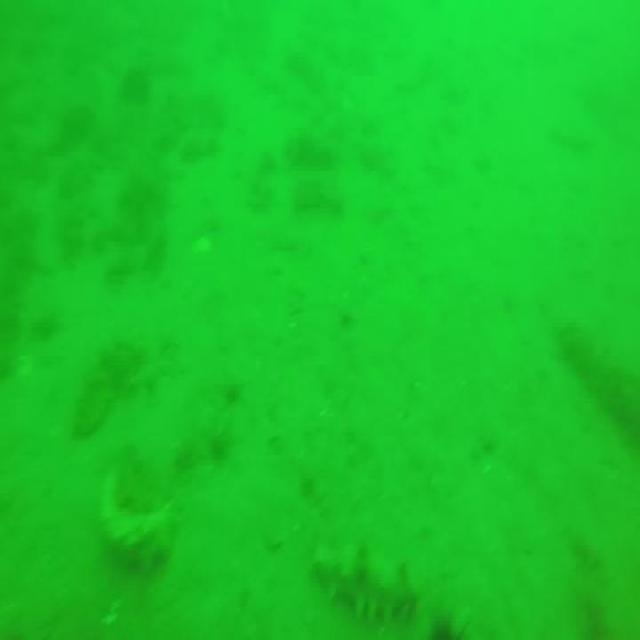holothurian: (317, 542, 416, 640), (559, 319, 640, 433), (90, 469, 172, 566)
